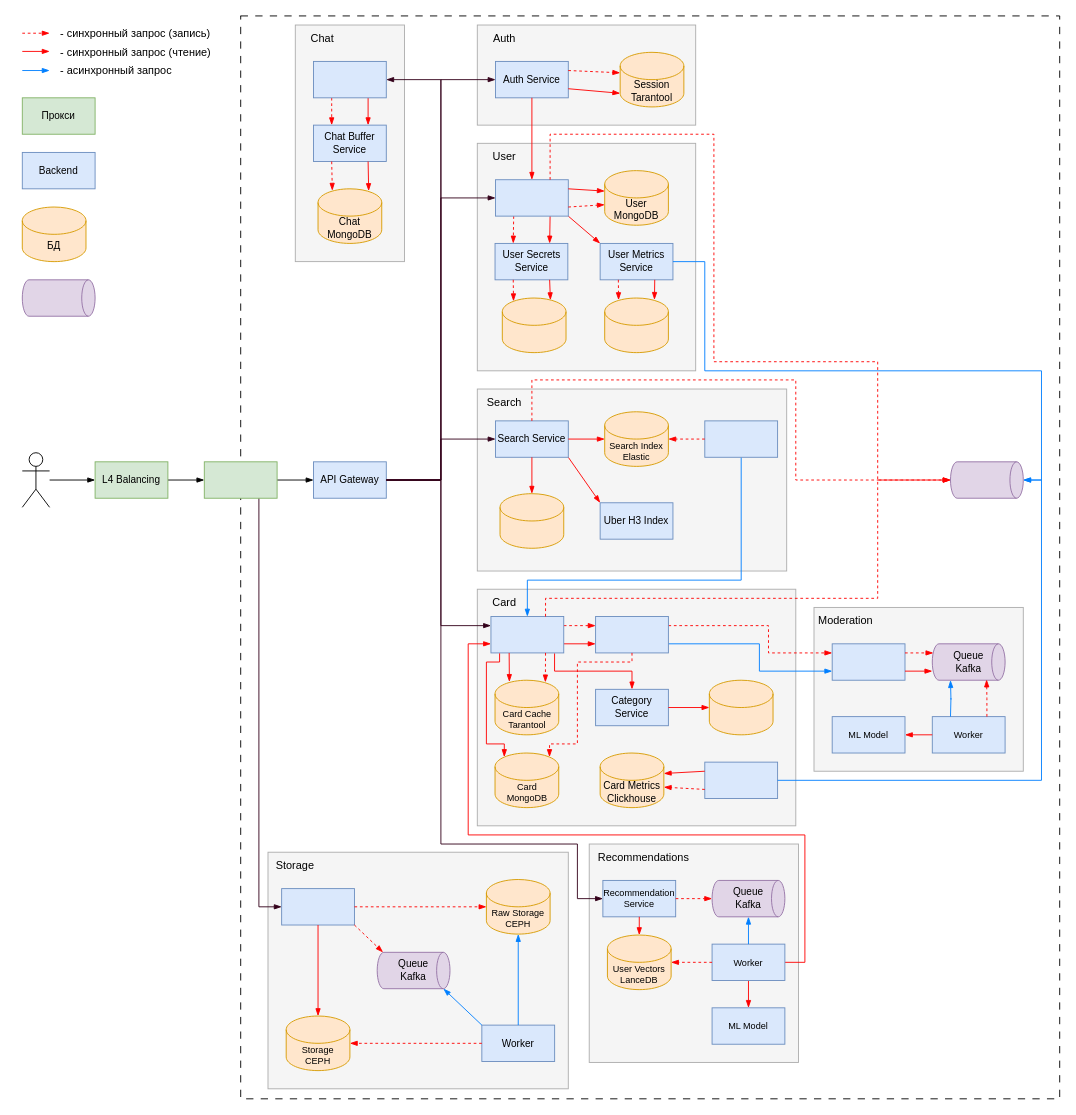
This 1076x1115 diagram has some shape labels left out. The centre of each missing label's shape, as x and y in pixels:
Card Metrics Service: (741,780)
Card Moderation Worker: (631,634)
Card Service: (527,634)
Category MongoDB: (740,707)
Chat Service: (349,79)
Client: (35,479)
Envoy: (240,479)
Events Kafka: (986,479)
Moderation Service: (868,661)
Search Cache Tarantool: (531,520)
Search Index Updater: (741,438)
Storage Service: (317,906)
User Metrics Clickhouse: (636,325)
User Secrets MongoDB: (533,325)
User Service: (531,197)
Брокер сообщений: (58,297)
